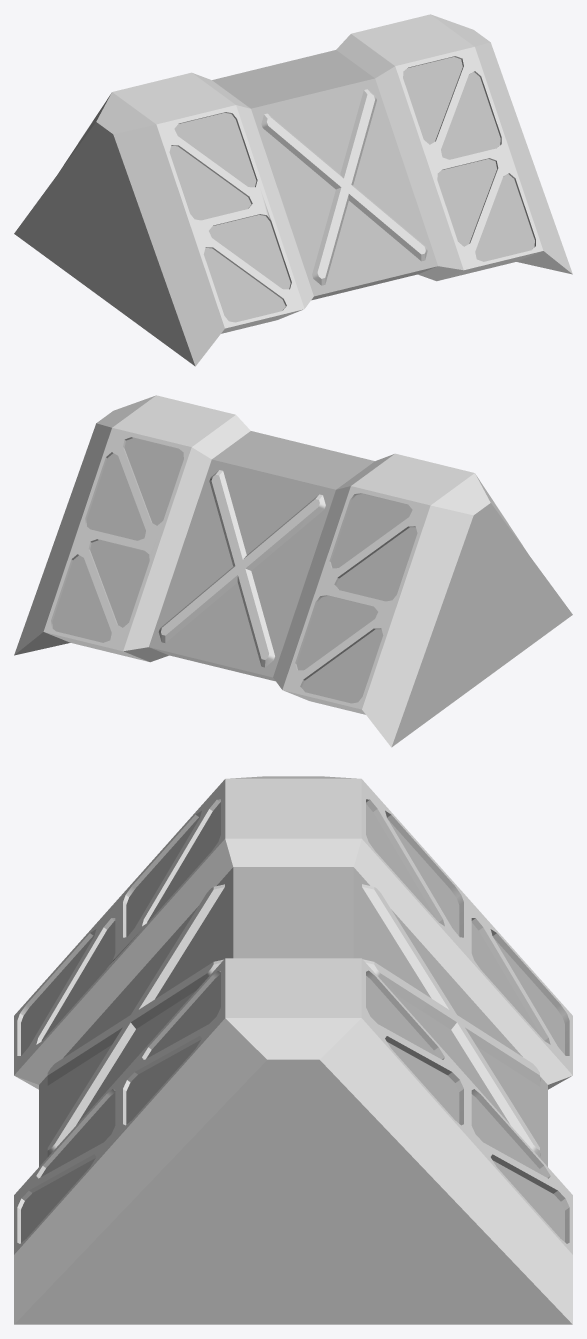
Rendered from space_station_027.fbx.
3 renders of one model, top to bottom at view 1: azimuth 30°, elevation 25°; view 2: azimuth 150°, elevation 25°; view 3: azimuth 270°, elevation 25°, orthographic. The views are drawn at different scales.
Parts seen in each view (by area): view 1: space_station_027; view 2: space_station_027; view 3: space_station_027.
Part boxes in pixels (<box>): space_station_027: <box>14,14,572,366</box>; space_station_027: <box>14,395,572,747</box>; space_station_027: <box>14,776,572,1324</box>.
Bounding box in the file's own units: 1417 × 1180 × 663.
